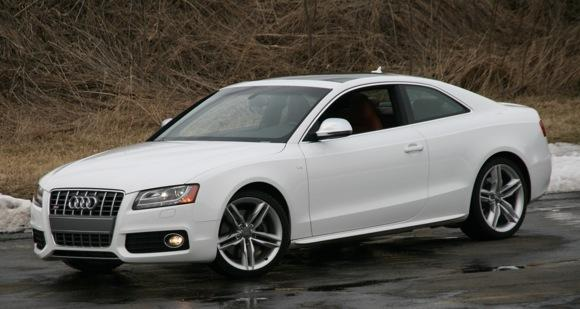Audi: (64, 191, 101, 214)
